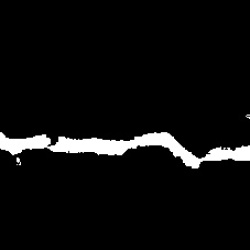crack: (48, 133, 250, 169), (0, 131, 52, 163)
